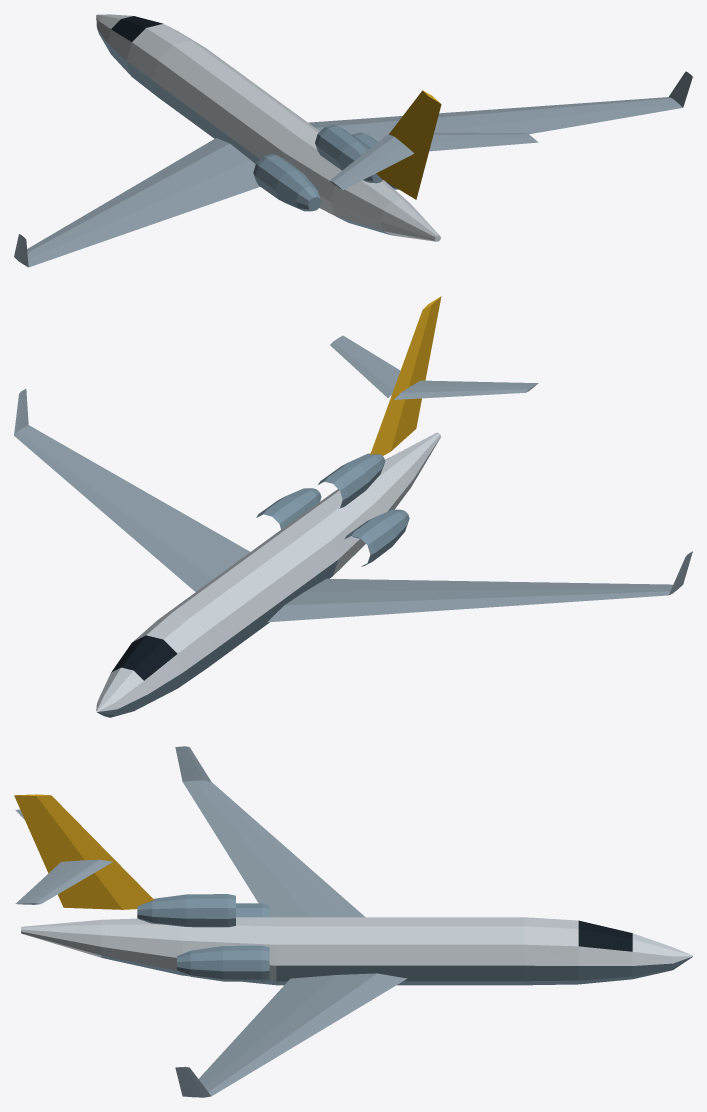
3 views of the same model, one above another, from view 1: azimuth 30°, elevation 25°; view 2: azimuth 150°, elevation 25°; view 3: azimuth 270°, elevation 25° (orthographic).
Parts seen in each view (by area): view 1: lod0; view 2: lod0; view 3: lod0.
Part boxes in pixels (<box>): lod0: <box>14,14,692,267</box>; lod0: <box>14,296,692,717</box>; lod0: <box>14,746,692,1097</box>.
Size of what is drawn, in the model's own units: 1.12 by 0.3015 by 1.
